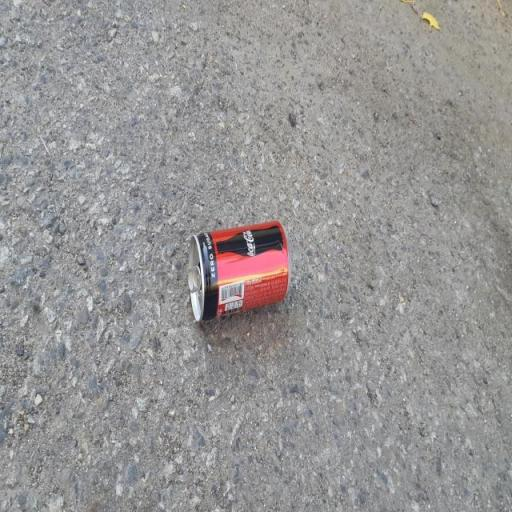metal: (182, 204, 306, 360)
